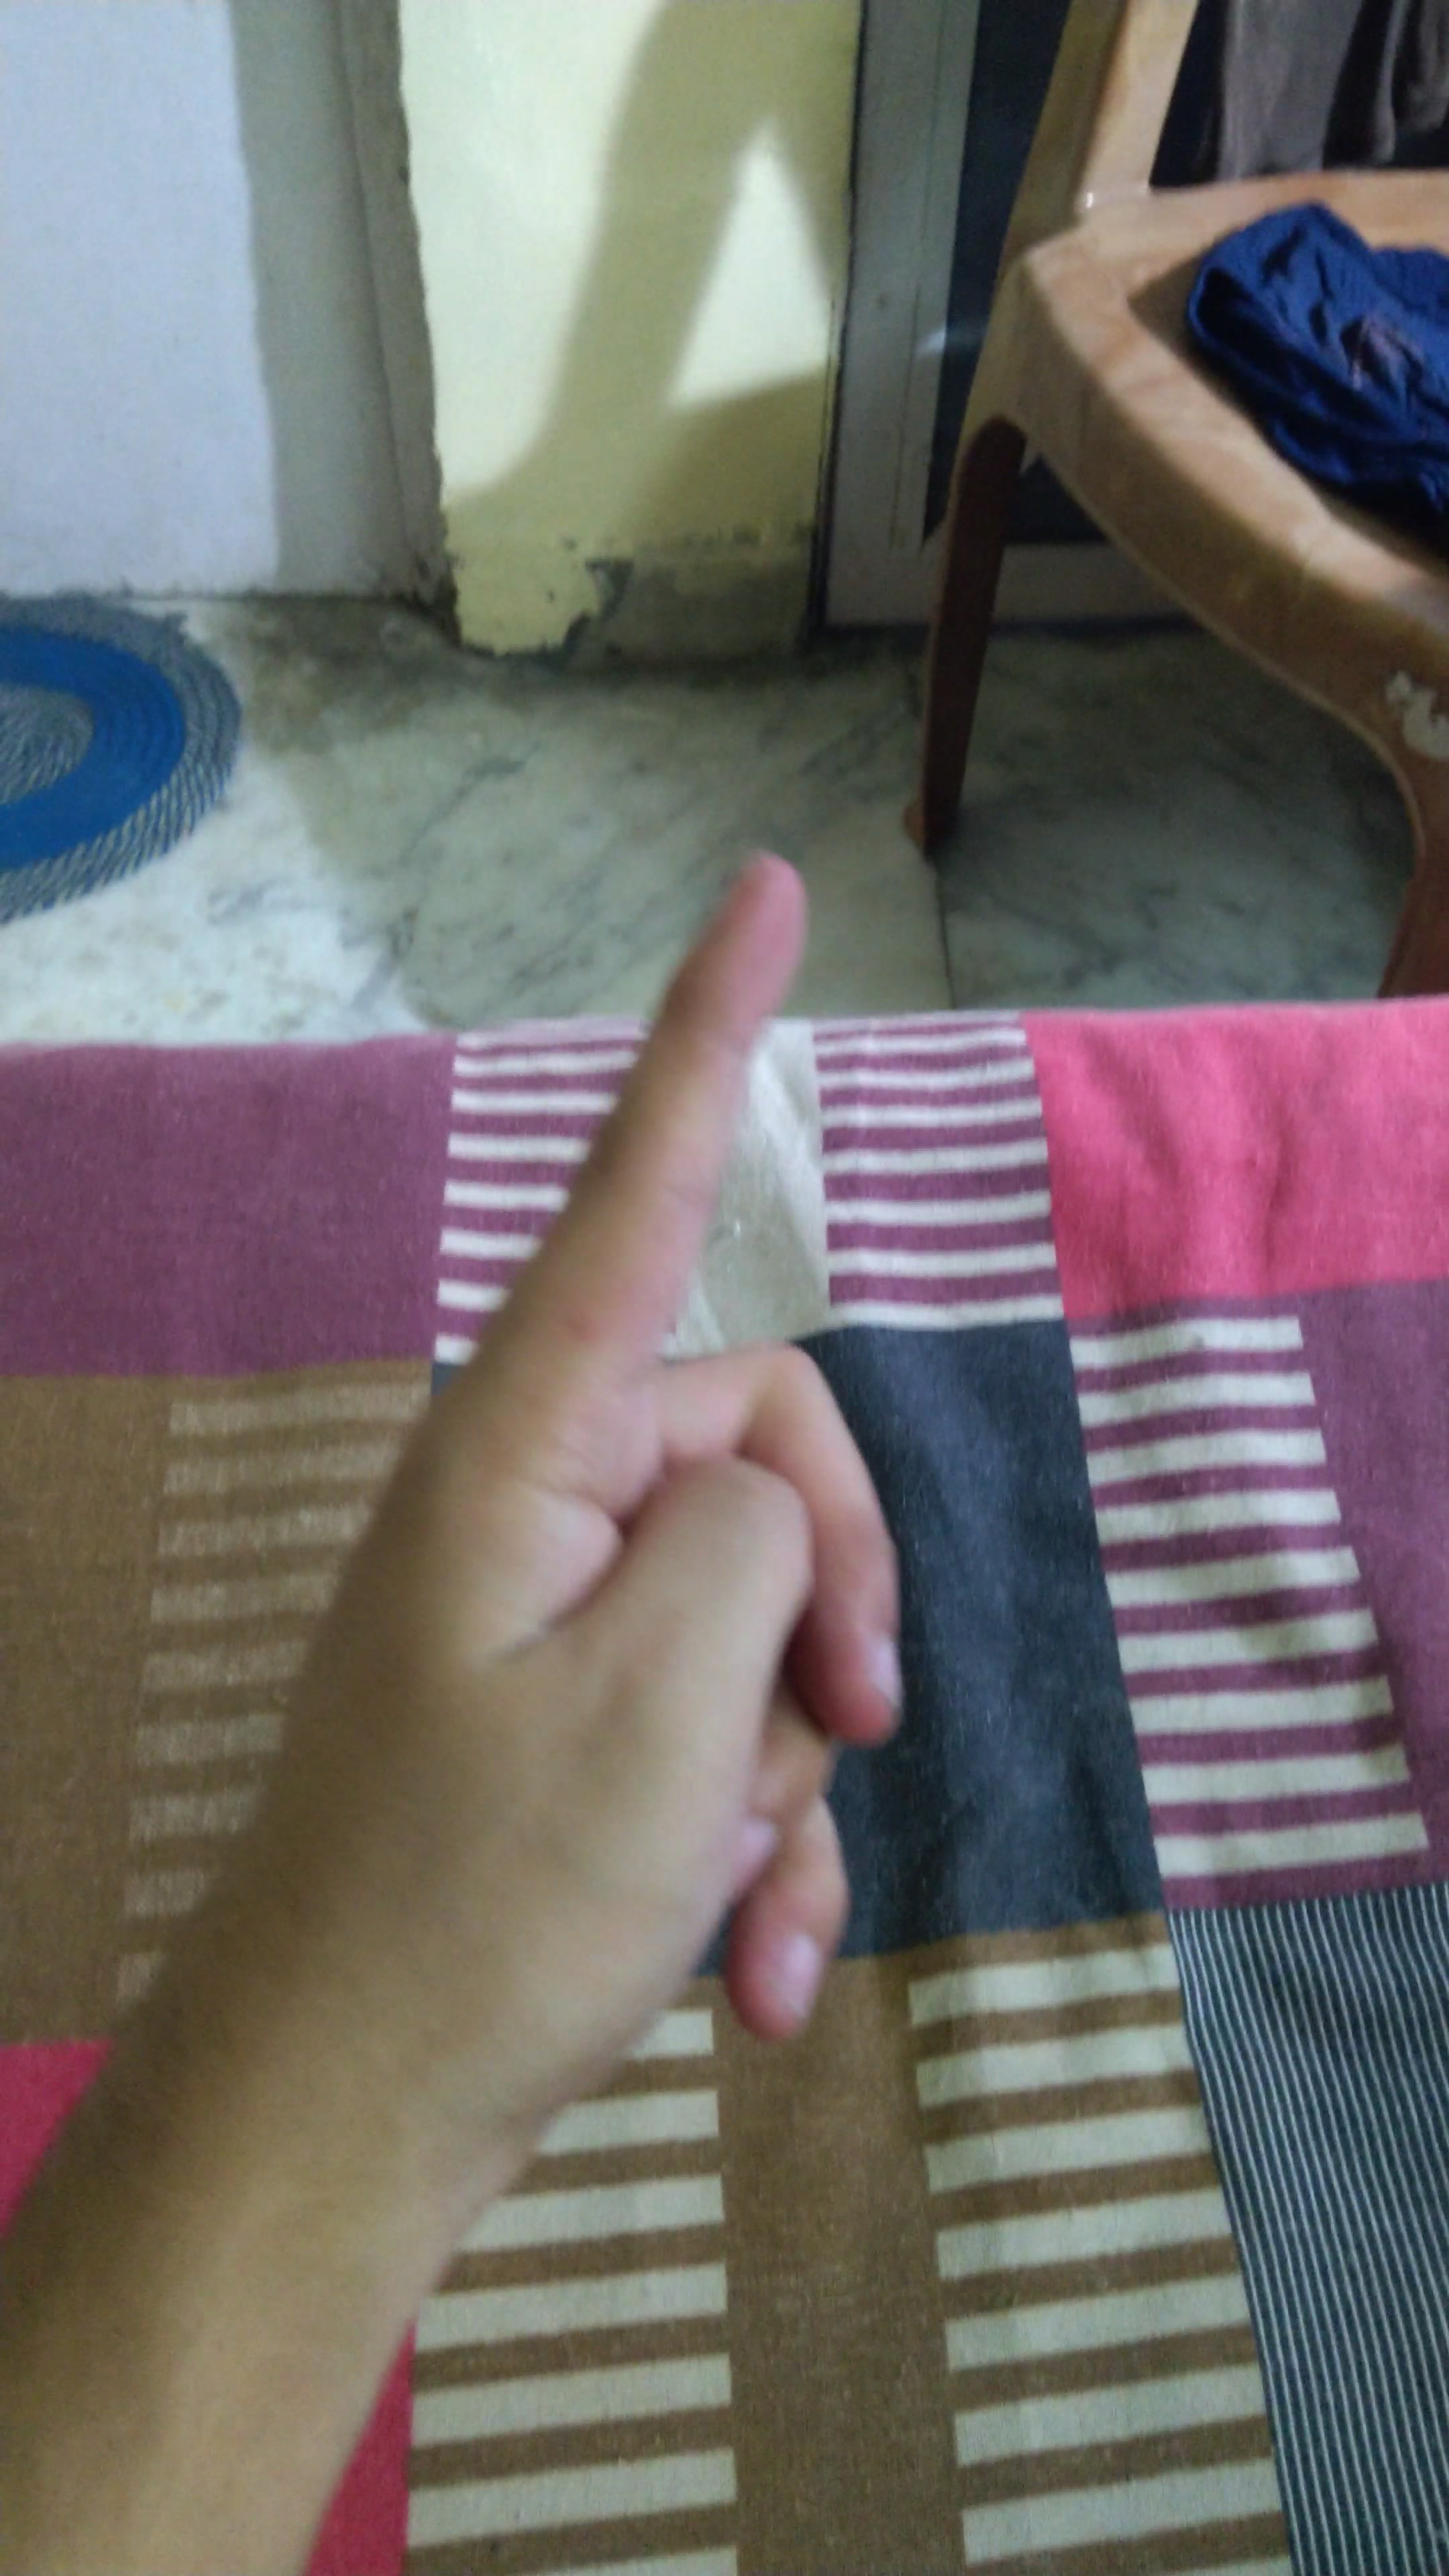hand: (203, 803, 1054, 2151)
